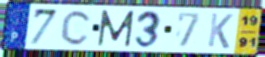3: (133, 9, 165, 50)
7: (29, 8, 60, 46), (175, 12, 202, 49)
C: (59, 8, 94, 47)
K: (206, 12, 235, 51)
M: (96, 9, 136, 48)
